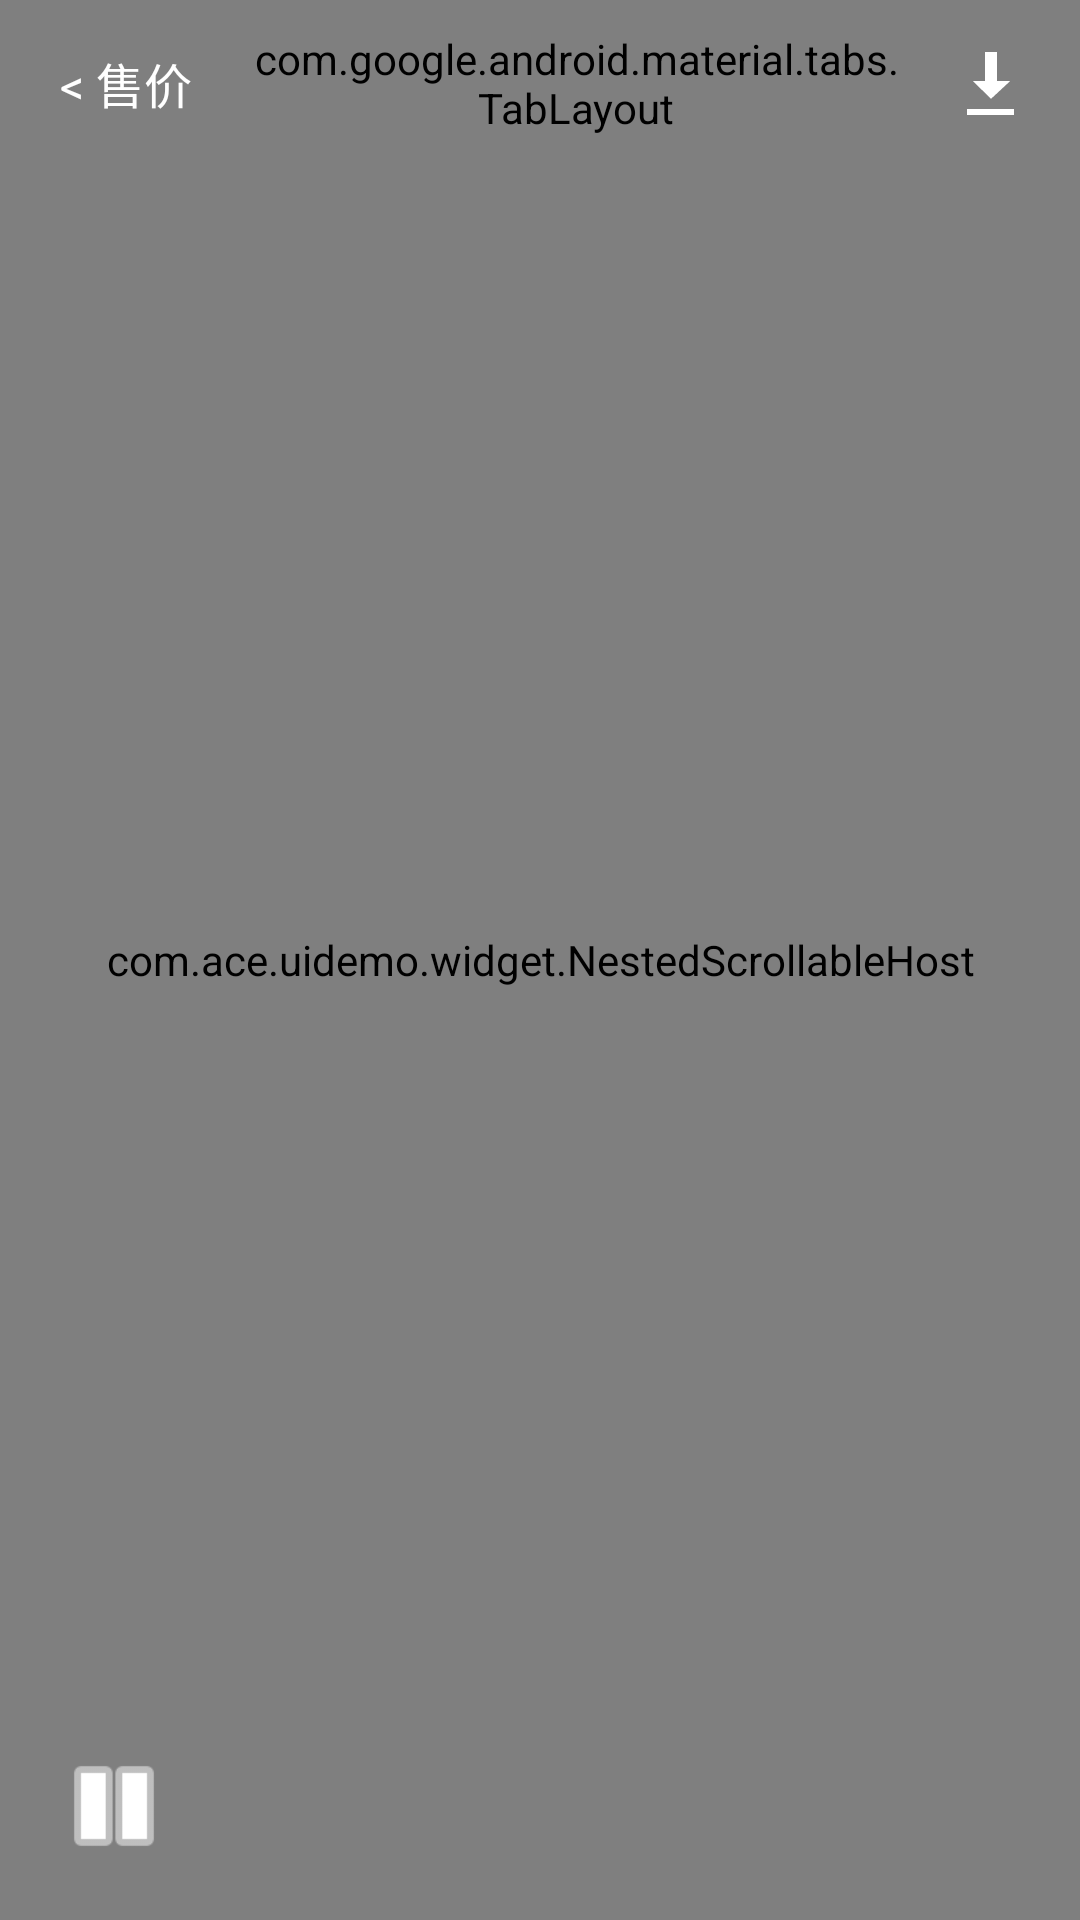

Screen size 1080*1920. Icon name, then its box in pixels as bbox=(x1, y1, x2, y2):
下载: bbox=(967, 52, 1014, 115)
暂停/播放: bbox=(74, 1766, 154, 1846)
